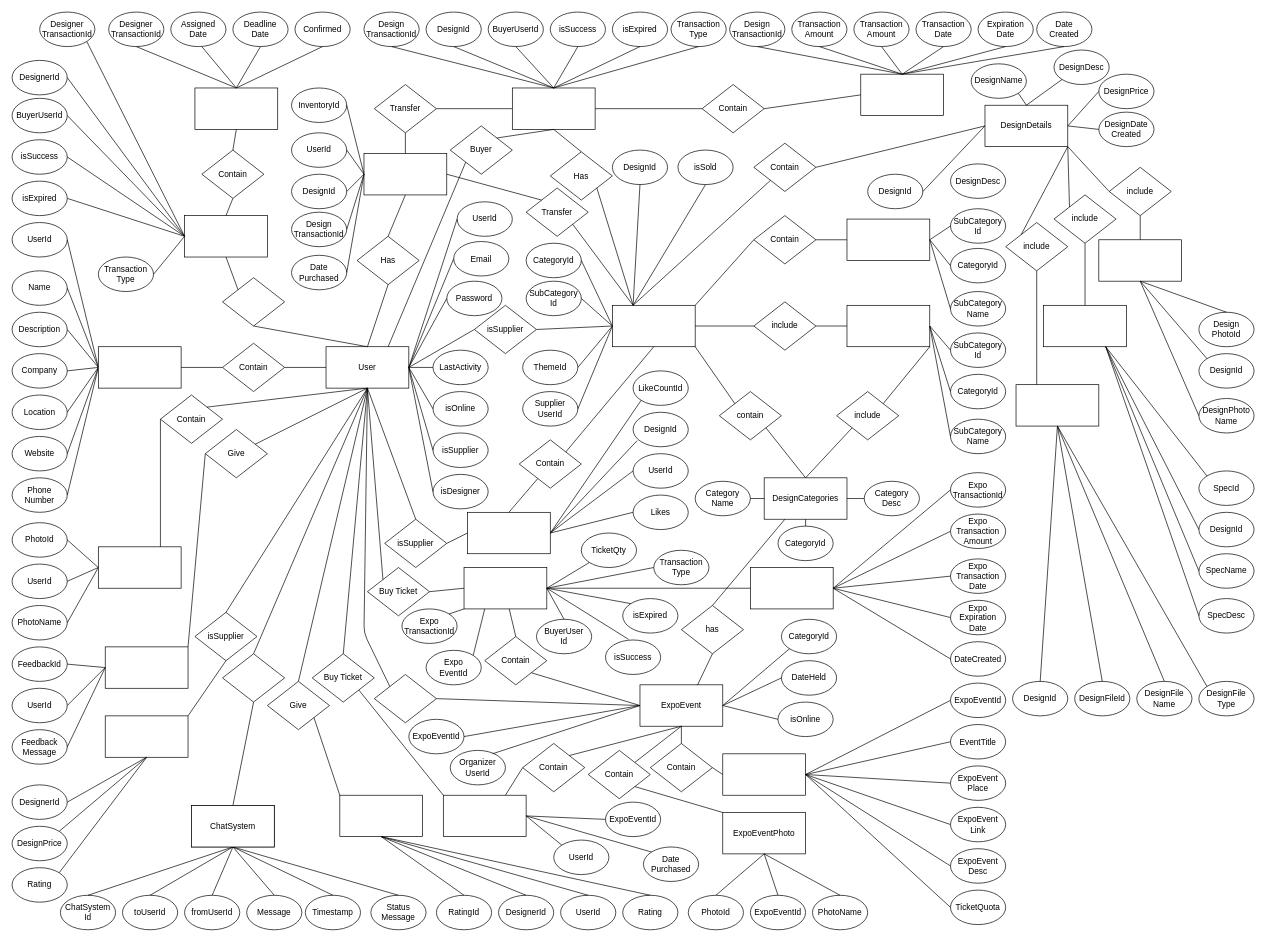
Image size: 1266x942. Some labels were removed from this diagram. Each missing label, with the centre of its shape:
"BuyDesign" goes at point (253, 301).
"Design SubCategories" goes at point (888, 326).
"DesignerInfo" goes at point (146, 736).
"DesignerRating" goes at point (381, 816).
"DesignerTransaction Detail" goes at point (236, 108).
"DesignerTransaction Header" goes at point (225, 236).
"DesignFile" goes at point (1057, 405).
"DesignHeader" goes at point (653, 326).
"DesignLikeCount" goes at point (508, 533).
"DesignPhotos" goes at point (1140, 260).
"DesignSpesification" goes at point (1084, 326).
"DesignTheme" goes at point (888, 239).
"DesignTransaction Details" goes at point (902, 94).
"DesignTransaction Header" goes at point (553, 108).
"ExpoEventDetails" goes at point (764, 774).
"ExpoTransaction Details" goes at point (791, 588).
"ExpoTransaction Header" goes at point (505, 588).
"isSupplier and sell ticket" goes at point (405, 698).
"Use" goes at point (253, 677).
"UserExpo" goes at point (484, 816).
"UserFeedback" goes at point (146, 667).
"UserInfo" goes at point (139, 367).
"UserInventory" goes at point (405, 174).
"UserPhoto" goes at point (139, 567).
